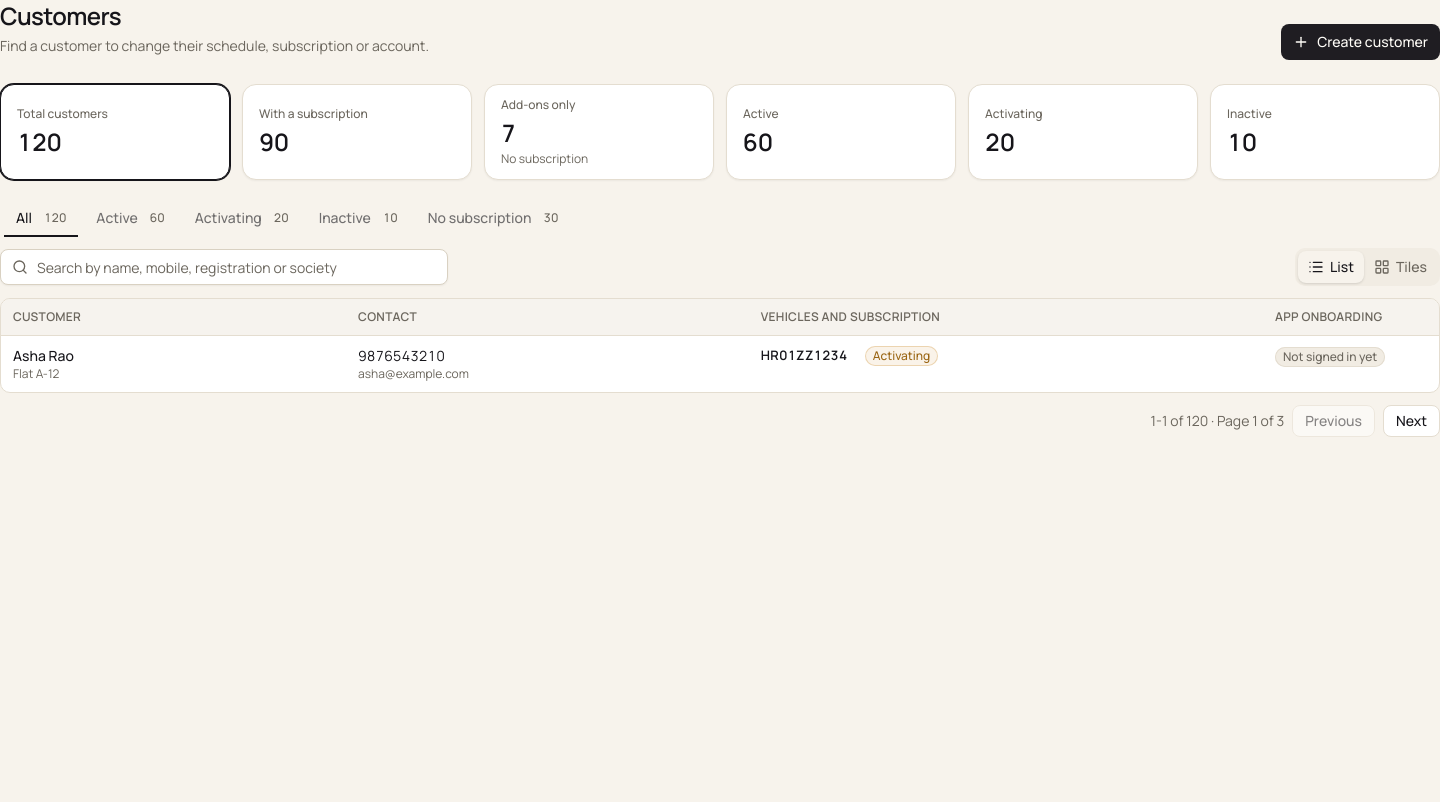
Test case: opens a customer from the row and shows their onboarding state
This screenshot has width=1440, height=802.
Step 1. Click the link "Asha Rao" → (43, 355), box [13,346,74,364]
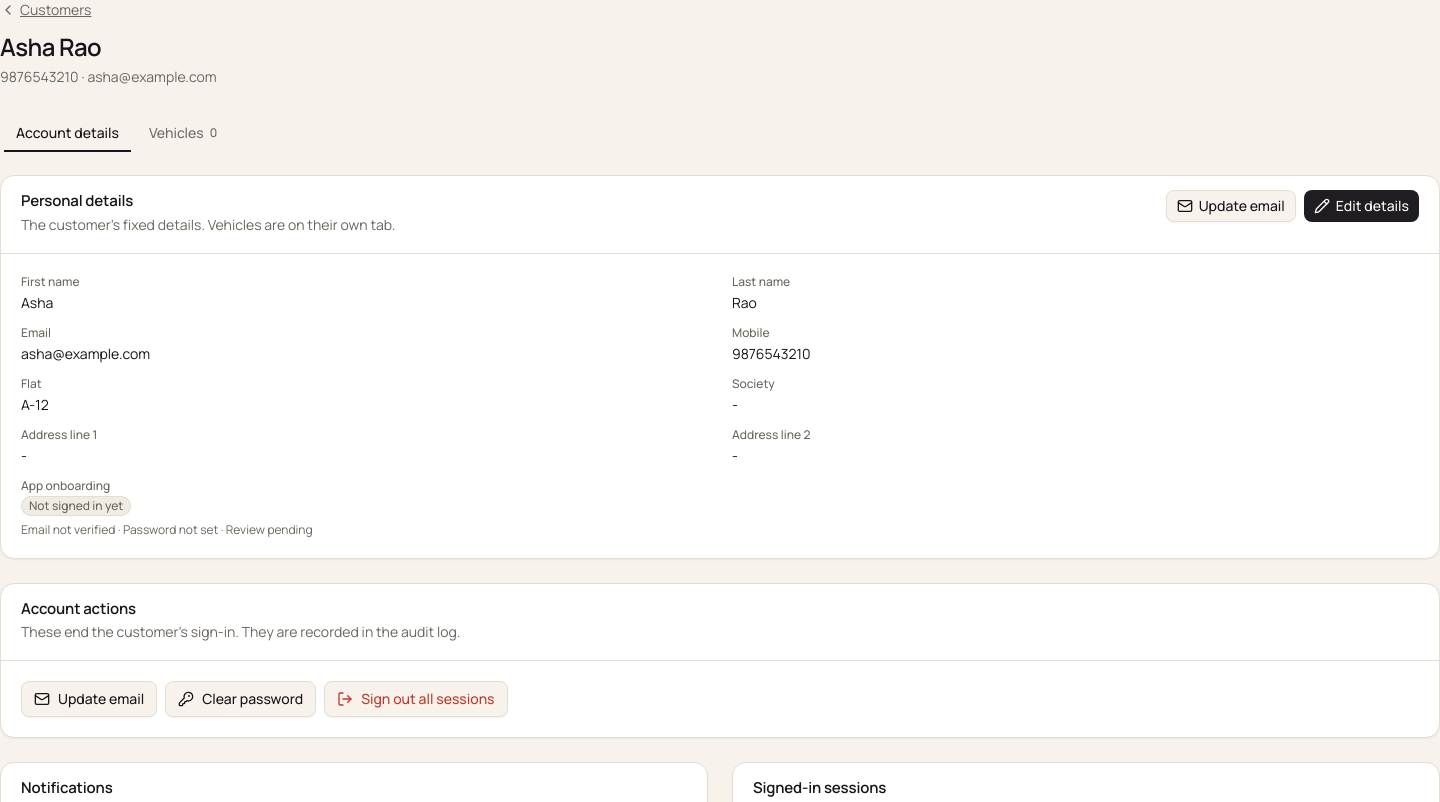
Expected: the heading "Asha Rao" is shown, [0,30,101,63]
Expected: the text "Email not verified · Password not set · Review pending" is shown, [21,520,313,538]
Expected: the heading "Personal details" is shown, [21,190,133,211]
Step 2. Click the tab "Vehicles 0" → (183, 133), box [136,118,230,148]
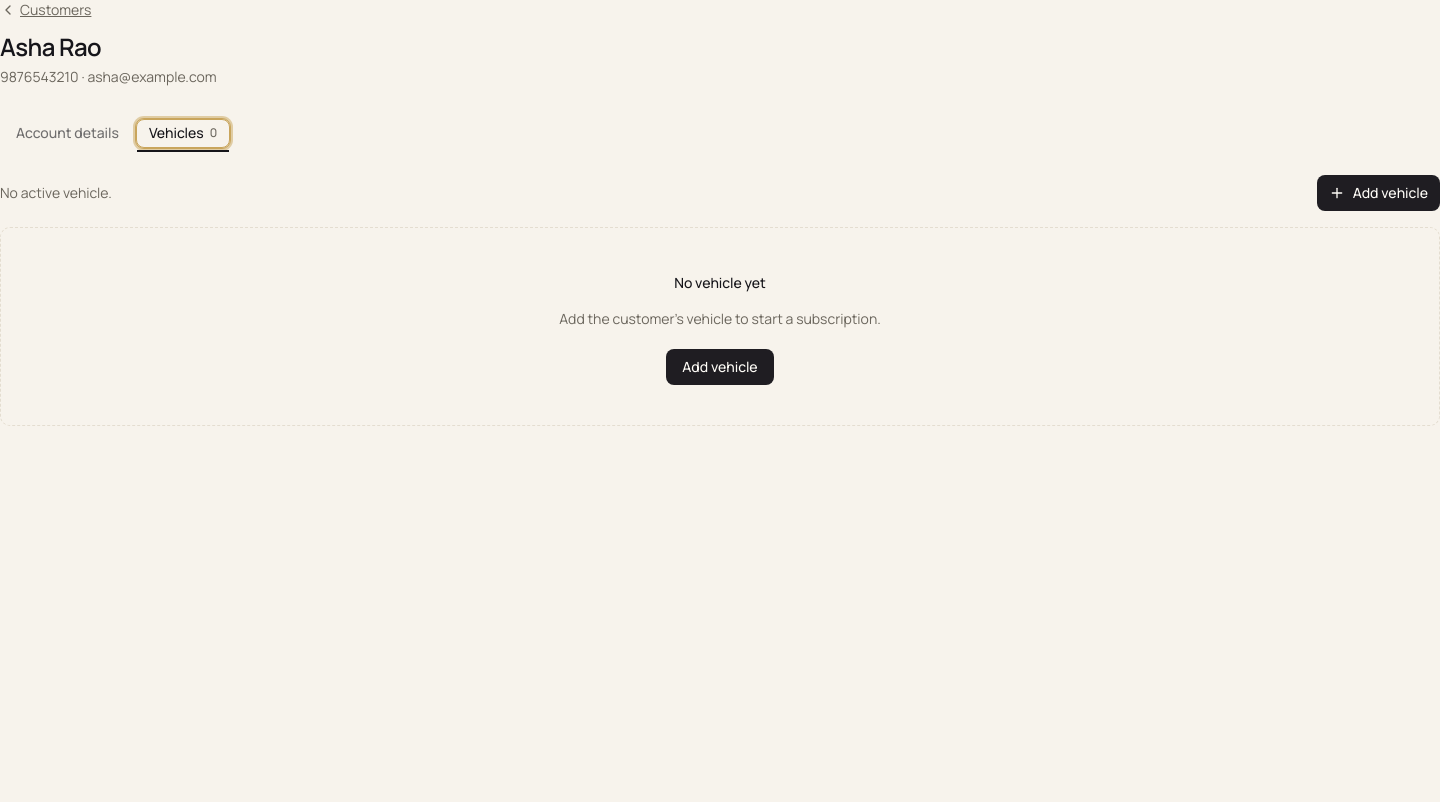
Expected: the button "Add vehicle" in the row of "No active vehicle." is shown, [1317,175,1439,211]
